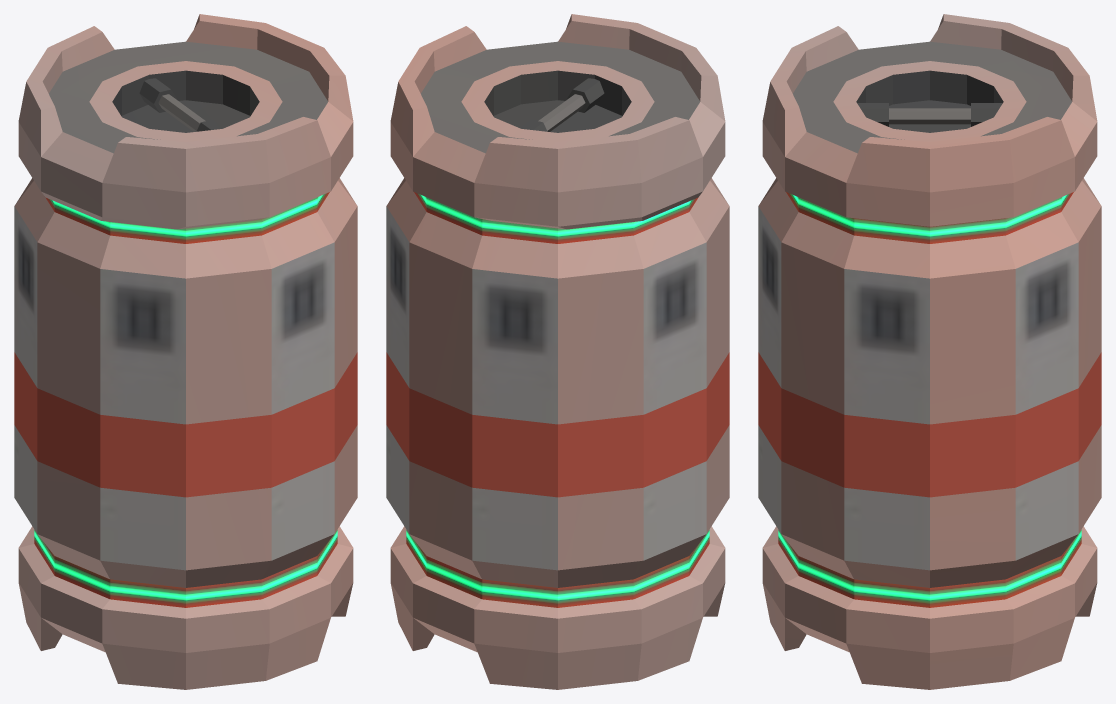
The model's file is entity120646.glb.
The picture shows the model from 3 angles, left to right: view 1: azimuth 30°, elevation 25°; view 2: azimuth 150°, elevation 25°; view 3: azimuth 270°, elevation 25°; orthographic projection.
Parts seen in each view (by area): view 1: node_SM_Prop_Crate_08 (7), node_SM_Prop_Crate_08_Lid_01; view 2: node_SM_Prop_Crate_08 (7), node_SM_Prop_Crate_08_Lid_01; view 3: node_SM_Prop_Crate_08 (7), node_SM_Prop_Crate_08_Lid_01.
Part boxes in pixels (left/top/right/bottom): node_SM_Prop_Crate_08 (7): left=14, top=178, right=357, bottom=689; node_SM_Prop_Crate_08_Lid_01: left=18, top=14, right=353, bottom=229; node_SM_Prop_Crate_08 (7): left=386, top=178, right=729, bottom=689; node_SM_Prop_Crate_08_Lid_01: left=390, top=14, right=725, bottom=229; node_SM_Prop_Crate_08 (7): left=758, top=178, right=1101, bottom=689; node_SM_Prop_Crate_08_Lid_01: left=762, top=14, right=1097, bottom=226.
Bounding box in the file's own units: 1.15 × 2 × 1.15.
1 material, 1 textured.
